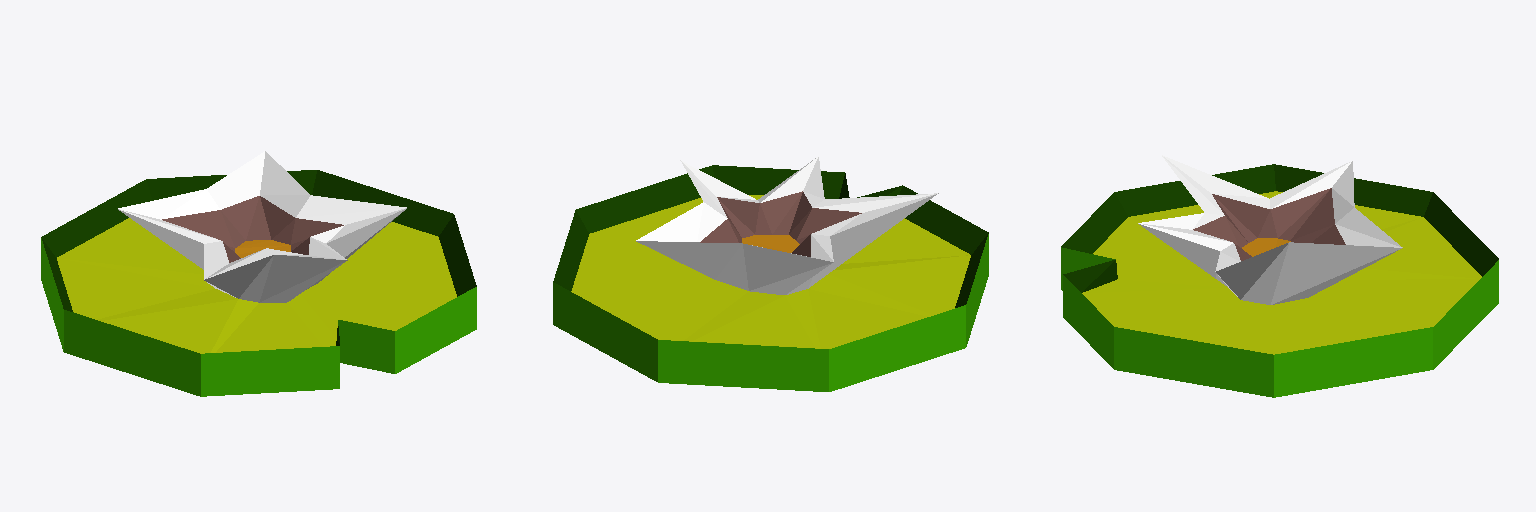
Rendered from Plant003_V2.obj.
3 views of the same model, side by side, from view 1: azimuth 30°, elevation 25°; view 2: azimuth 150°, elevation 25°; view 3: azimuth 270°, elevation 25° (orthographic).
Visible parts, largest first — view 1: Plant003_V2; view 2: Plant003_V2; view 3: Plant003_V2.
Boxes of the visible parts, <box> form: Plant003_V2: <box>41,151,476,396</box>; Plant003_V2: <box>553,156,988,391</box>; Plant003_V2: <box>1061,155,1498,397</box>.
Size of the model in its own units: 2.11 by 0.4802 by 2.05.